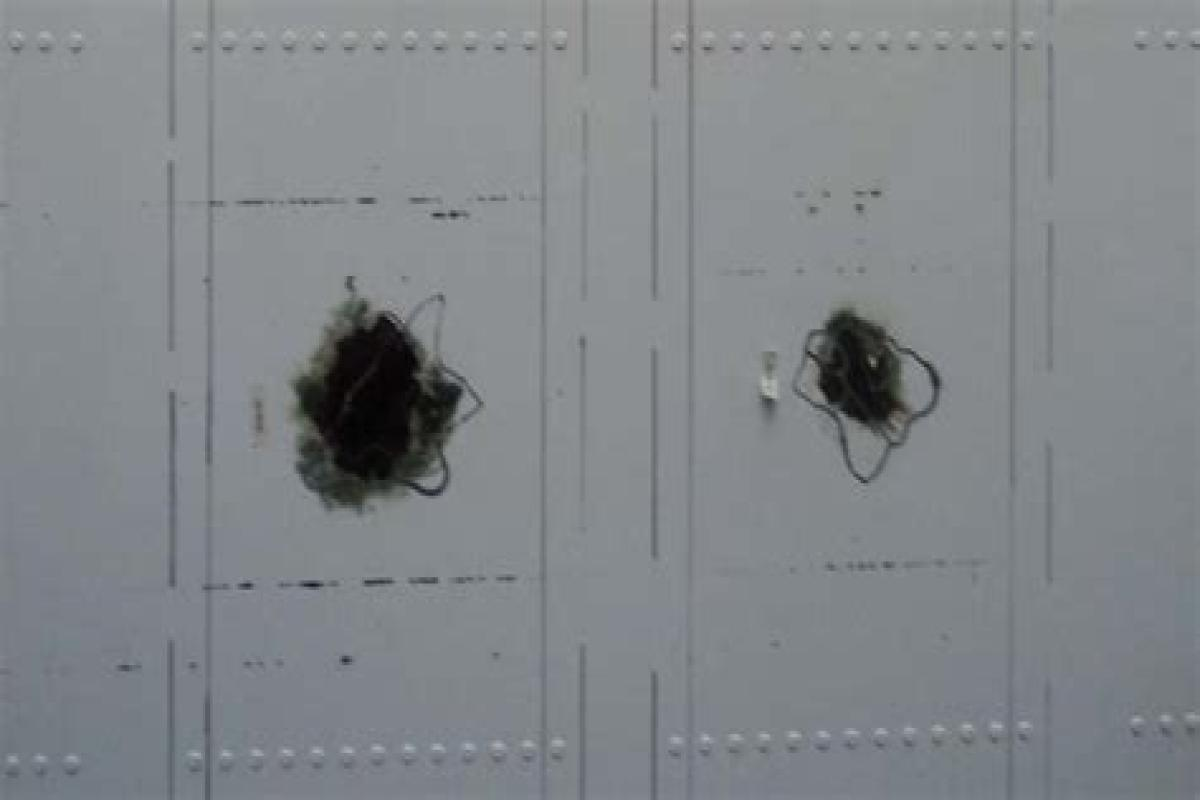Fuselage_damage: (252, 250, 502, 529), (759, 269, 967, 522)
